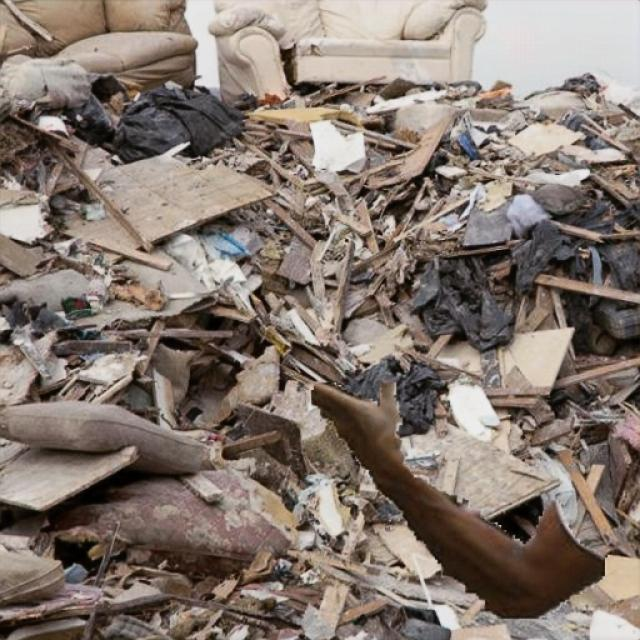Person in Rubble: (312, 382, 606, 618)
